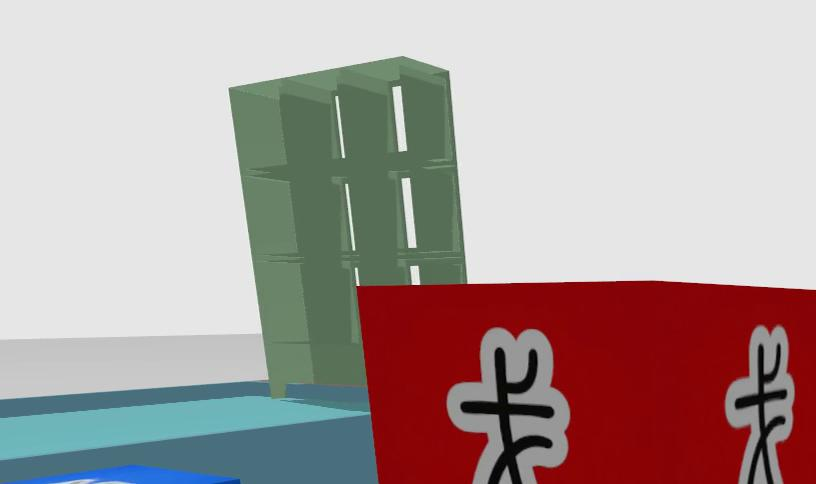KFS_FAKE: (359, 281, 816, 484), (448, 328, 570, 484), (726, 325, 795, 484)
KFS_REAL: (0, 465, 239, 484)
